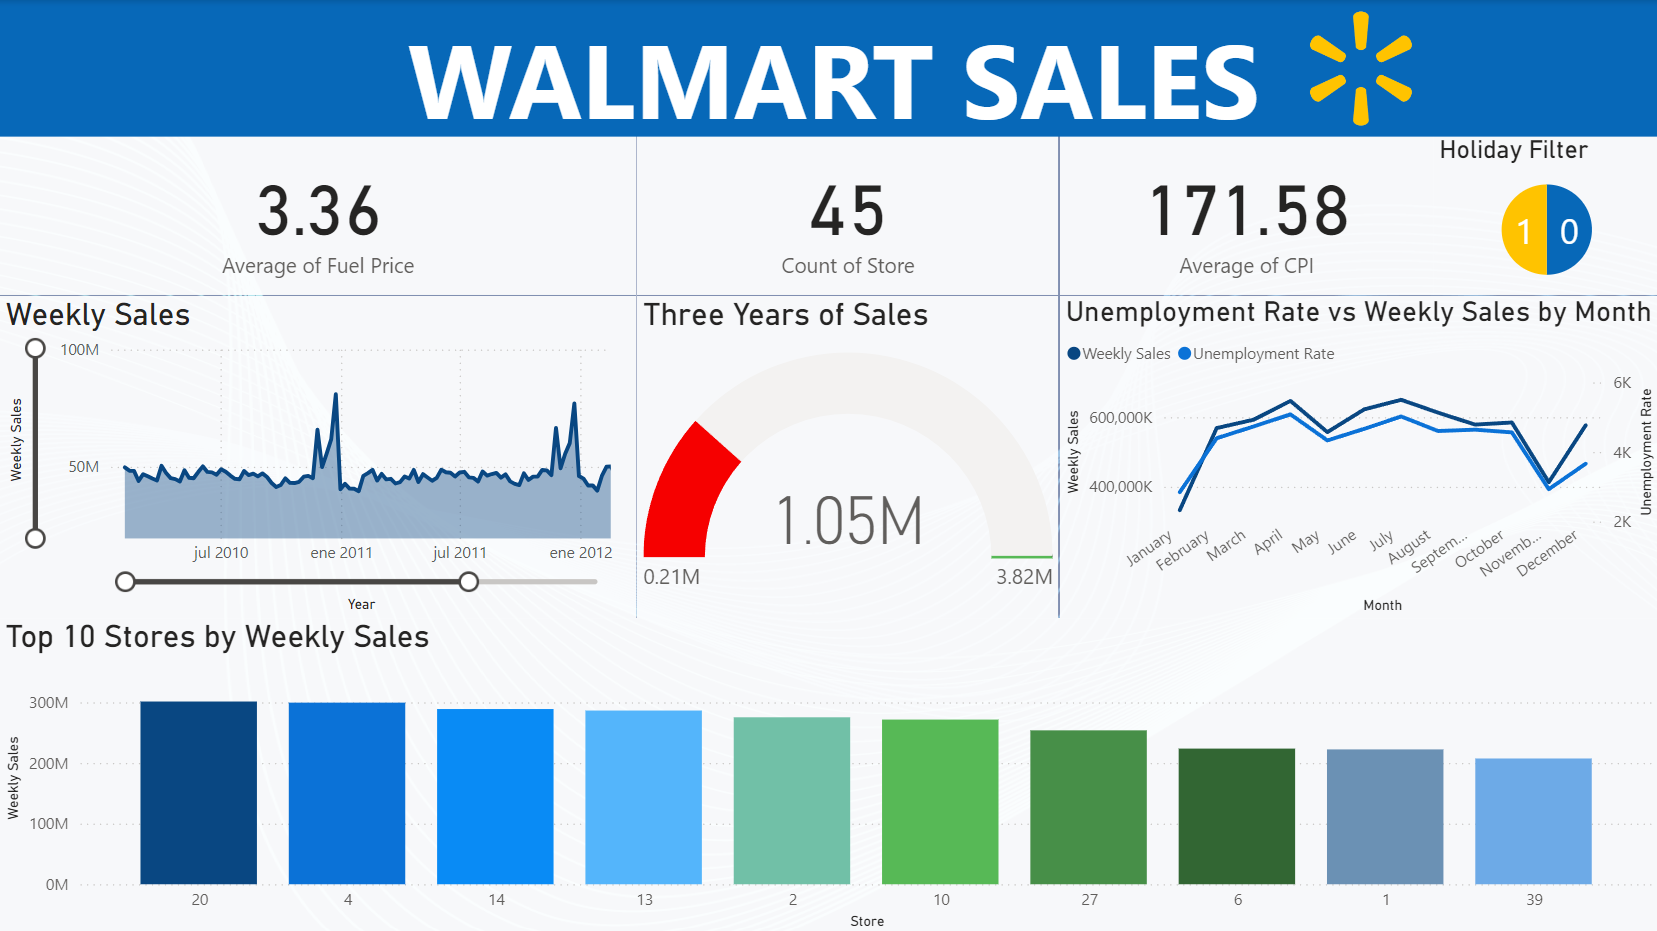

The page's visual inventory and layout, read from the dashboard file:
{"tool":"powerbi","page":{"name":"Sales","canvas":[1280,720],"ordinal":0},"visuals":[{"type":"stackedAreaChart","title":"Weekly Sales","fields":{"Y":["Sum(Walmart_Sales Preprocessed.Weekly_Sales)"],"Category":["Walmart_Sales Preprocessed.Date.Variation.Date Hierarchy.Year","Walmart_Sales Preprocessed.Date.Variation.Date Hierarchy.Month","Walmart_Sales Preprocessed.Date.Variation.Date Hierarchy.Day"]},"box":[0,227.6,491.6,248.9],"z":0},{"type":"card","fields":{"Values":["Count(Walmart_Sales Preprocessed.Store)"]},"box":[491.6,104.4,325.6,123.2],"z":1000},{"type":"card","fields":{"Values":["Avg(Walmart_Sales Preprocessed.CPI)"]},"box":[817.2,104.4,287.9,123.2],"z":2000},{"type":"gauge","title":"Three Years of Sales","fields":{"MinValue":["Min(Walmart_Sales Preprocessed.Weekly_Sales)"],"MaxValue":["Max(Walmart_Sales Preprocessed.Weekly_Sales)1"],"Y":["Avg(Walmart_Sales Preprocessed.Weekly_Sales)2"],"TargetValue":["Max(Walmart_Sales Preprocessed.Weekly_Sales)1"]},"box":[491.6,227.6,325.6,248.9],"z":3000},{"type":"lineChart","title":"Unemployment Rate vs Weekly Sales by Month","fields":{"Category":["Walmart_Sales Preprocessed.Date.Variation.Date Hierarchy.Month","Walmart_Sales Preprocessed.Date.Variation.Date Hierarchy.Day"],"Y":["Sum(Walmart_Sales Preprocessed.Weekly_Sales)"],"Y2":["Sum(Walmart_Sales Preprocessed.Unemployment)"]},"box":[817.2,227.6,462.7,248.9],"z":4000},{"type":"pieChart","title":"Holiday Filter","fields":{"Category":["Walmart_Sales Preprocessed.Holiday_Flag"],"Y":["Count(Walmart_Sales Preprocessed.Holiday_Flag)"]},"box":[1105.2,104.4,174.8,123.2],"z":5000},{"type":"card","fields":{"Values":["Avg(Walmart_Sales Preprocessed.Fuel_Price)"]},"box":[0,104.4,491.6,123.2],"z":6000},{"type":"columnChart","title":"Top 10 Stores by Weekly Sales ","fields":{"Series":["Walmart_Sales Preprocessed.Store"],"Category":["Walmart_Sales Preprocessed.Store"],"Y":["Sum(Walmart_Sales Preprocessed.Weekly_Sales)"]},"box":[0,476.5,1279.9,243.9],"z":8000},{"type":"textbox","box":[0,0,1295,105],"z":9000},{"type":"image","box":[992,0,113.2,105.6],"z":9500}]}

Visuals, with their boxes in screenshot pixels (x1, y1, x2, y2), scaled from the page's 1280x720 canvas onto the 1657x931 screenshot:
"Weekly Sales" stackedAreaChart: <region>0, 294, 636, 616</region>
card - Count(Walmart_Sales Preprocessed.Store): <region>636, 135, 1058, 294</region>
card - Avg(Walmart_Sales Preprocessed.CPI): <region>1058, 135, 1431, 294</region>
"Three Years of Sales" gauge: <region>636, 294, 1058, 616</region>
"Unemployment Rate vs Weekly Sales by Month" lineChart: <region>1058, 294, 1656, 616</region>
"Holiday Filter" pieChart: <region>1431, 135, 1656, 294</region>
card - Avg(Walmart_Sales Preprocessed.Fuel_Price): <region>0, 135, 636, 294</region>
"Top 10 Stores by Weekly Sales " columnChart: <region>0, 616, 1656, 930</region>
textbox: <region>0, 0, 1656, 136</region>
image: <region>1284, 0, 1431, 137</region>
